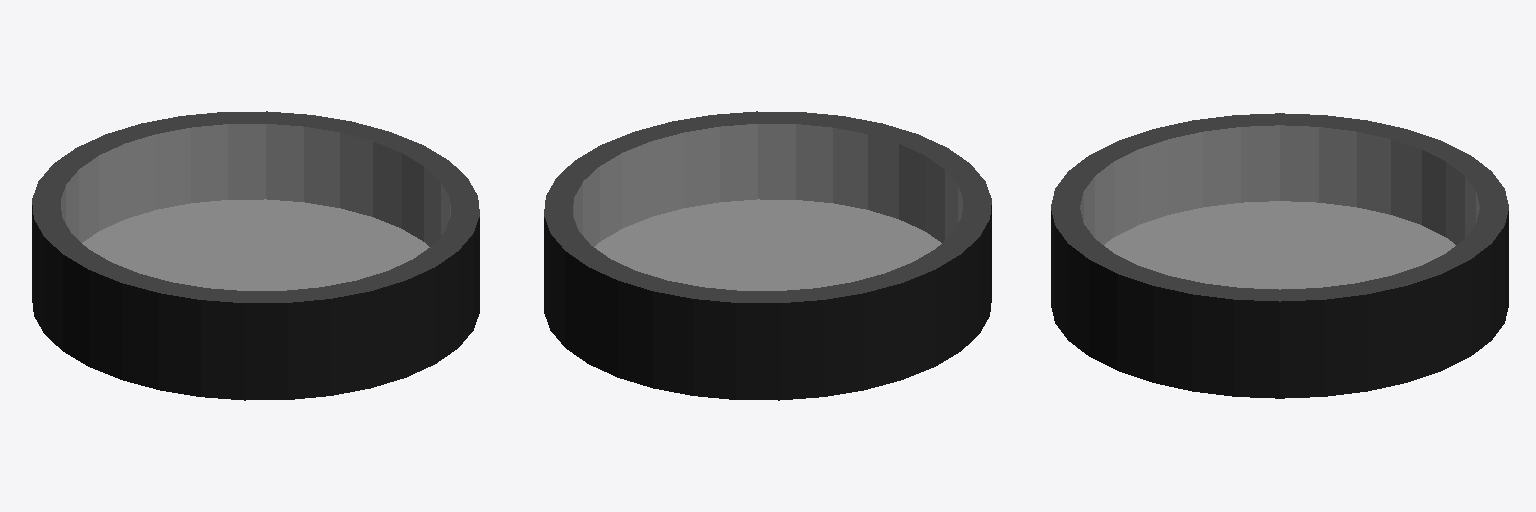
Rendered from poolunfilled.obj.
The picture shows the model from 3 angles: view 1: azimuth 30°, elevation 25°; view 2: azimuth 150°, elevation 25°; view 3: azimuth 270°, elevation 25°; orthographic projection.
Parts seen in each view (by area): view 1: Cylinder; view 2: Cylinder; view 3: Cylinder.
Boxes of the visible parts, box(x1,y1,x2,y2) form: Cylinder: box(32, 111, 479, 400); Cylinder: box(544, 111, 991, 400); Cylinder: box(1051, 113, 1508, 398).
Size of the model in its own units: 8.26 by 1.99 by 8.51.